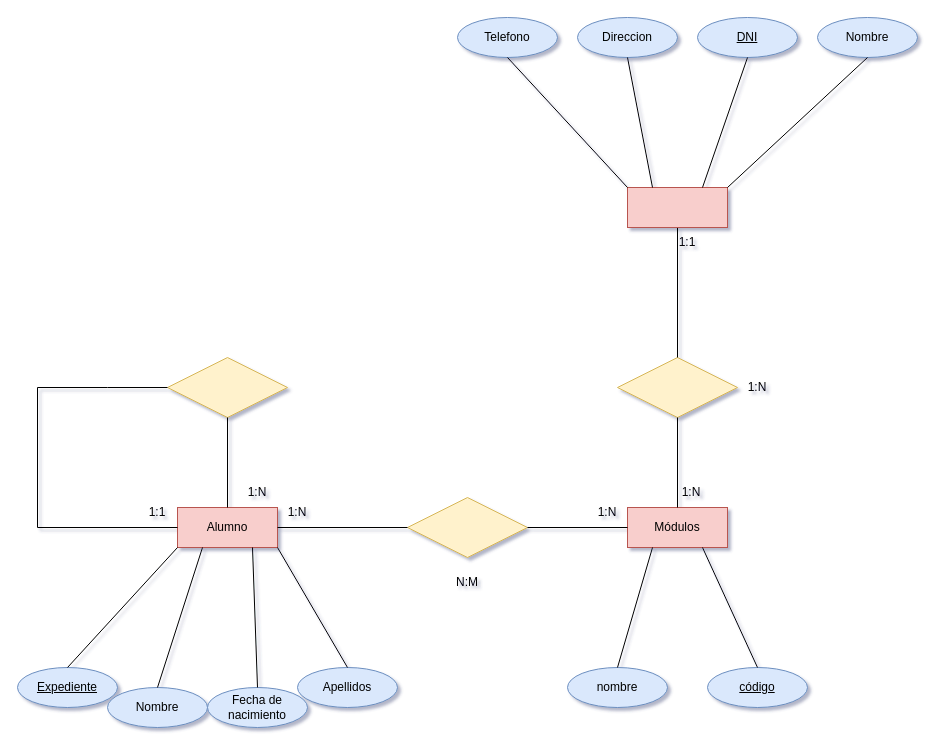
The diagram is 941 pixels wide and 751 high, and some of its shapes have lost their labels. Each missing label, with the box of its shape:
está matriculado: (406, 496, 528, 558)
imparten: (616, 356, 738, 418)
Profesores: (626, 186, 728, 228)
Ser delegado: (166, 356, 288, 418)
